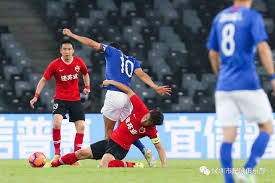fall: (41, 78, 175, 166)
